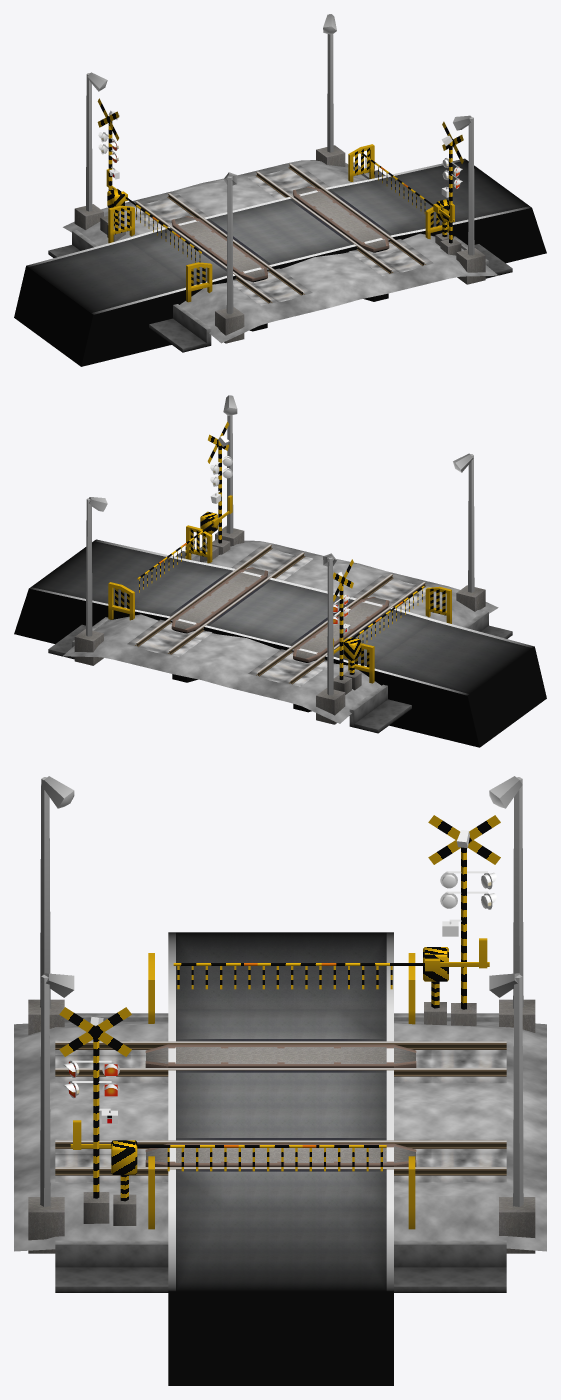
Rendered from NK_HUMIKIRI_25.glb.
3 renders of one model, top to bottom at view 1: azimuth 30°, elevation 25°; view 2: azimuth 150°, elevation 25°; view 3: azimuth 270°, elevation 25°, orthographic. The views are drawn at different scales.
Parts seen in each view (by area): view 1: obj3, bone8, bone0, BODY (×2); view 2: obj3, bone0, bone8, BODY (×2); view 3: obj3, BODY (×2), bone0, bone8, BAR4 (×2), OBI4 (×2).
Boxes of the visible parts, x1=… form: obj3: x1=14, y1=158, x2=546, y2=366; bone8: x1=186, y1=115, x2=485, y2=343; bone0: x1=74, y1=14, x2=374, y2=243; BODY (×2): x1=97, y1=98, x2=463, y2=255; obj3: x1=14, y1=539, x2=546, y2=747; bone0: x1=74, y1=497, x2=374, y2=724; bone8: x1=186, y1=395, x2=485, y2=623; BODY (×2): x1=200, y1=421, x2=361, y2=694; obj3: x1=14, y1=932, x2=546, y2=1385; BODY (×2): x1=59, y1=815, x2=500, y2=1225; bone0: x1=408, y1=776, x2=535, y2=1253; bone8: x1=28, y1=776, x2=154, y2=1253; BAR4 (×2): x1=70, y1=938, x2=489, y2=1149; OBI4 (×2): x1=167, y1=966, x2=392, y2=1171.
Bounding box in the file's own units: 50 × 19.59 × 29.53.
40 materials, 37 textured.
